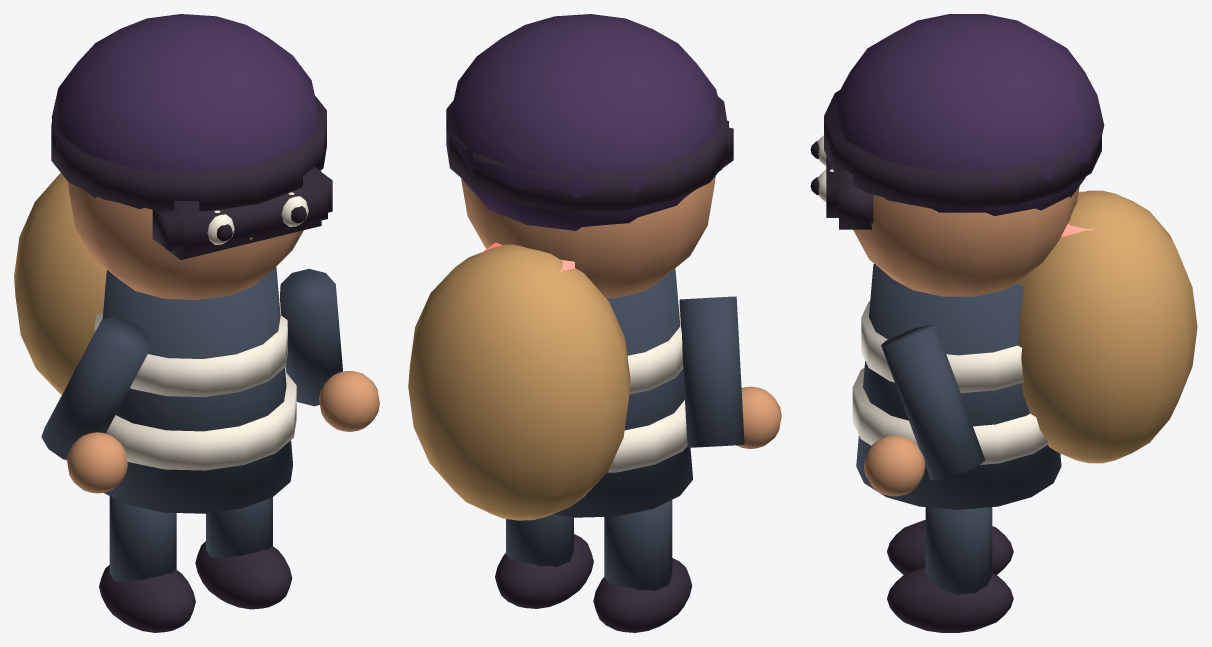
File: Char_Thief.fbx
3 views of the same model, side by side, from view 1: azimuth 30°, elevation 25°; view 2: azimuth 150°, elevation 25°; view 3: azimuth 270°, elevation 25° (orthographic). The views are drawn at different scales.
Visible parts, largest first — view 1: Char_Thief; view 2: Char_Thief; view 3: Char_Thief.
Part boxes in pixels (<box>): Char_Thief: <box>14,14,379,632</box>; Char_Thief: <box>408,14,781,632</box>; Char_Thief: <box>810,14,1197,632</box>.
Bounding box in the file's own units: 0.8204 × 1.49 × 0.905.
